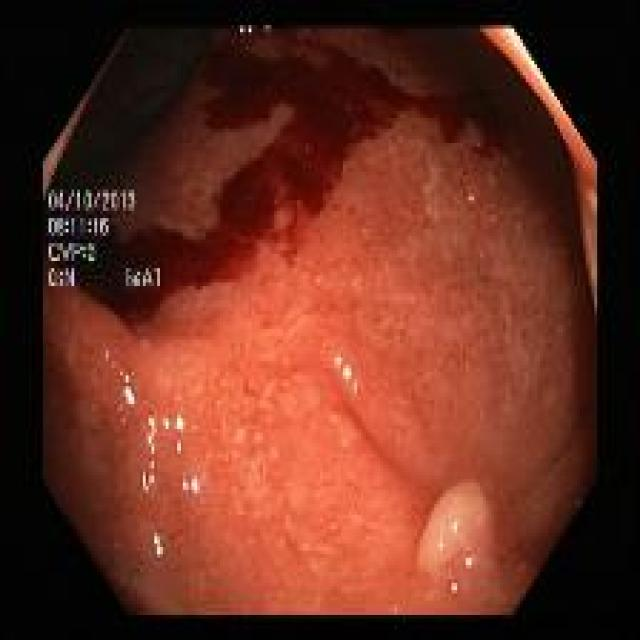ulcerative-colitis: (44, 28, 596, 615)
